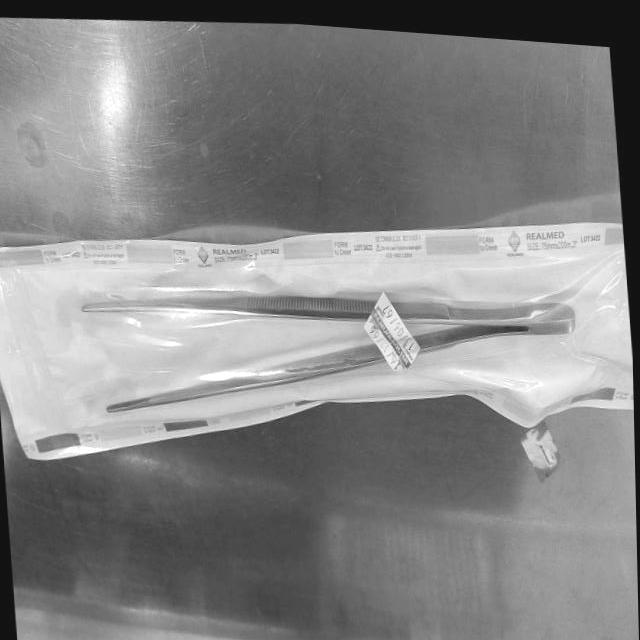General: (0, 219, 633, 465)
Sharps: (102, 302, 575, 415)
